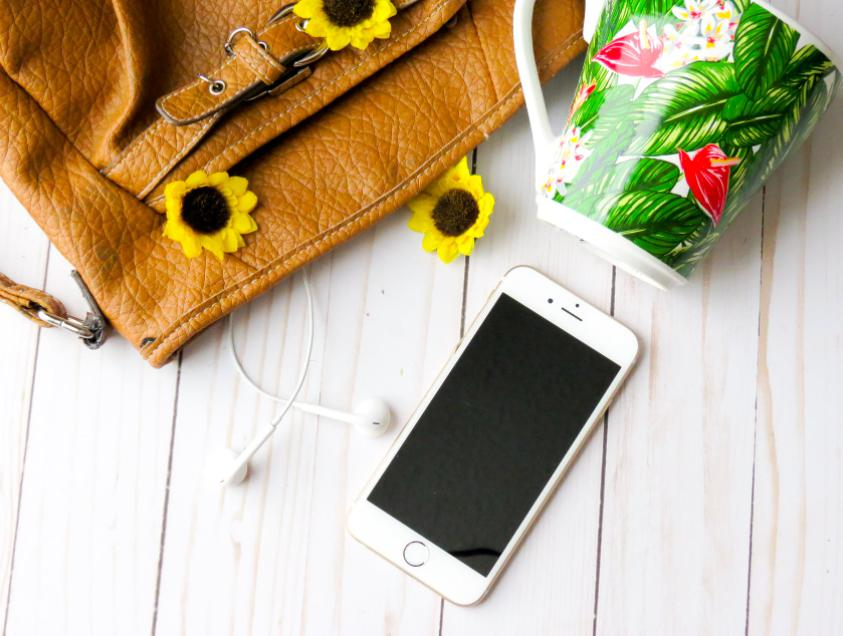mobile: (347, 265, 641, 606)
